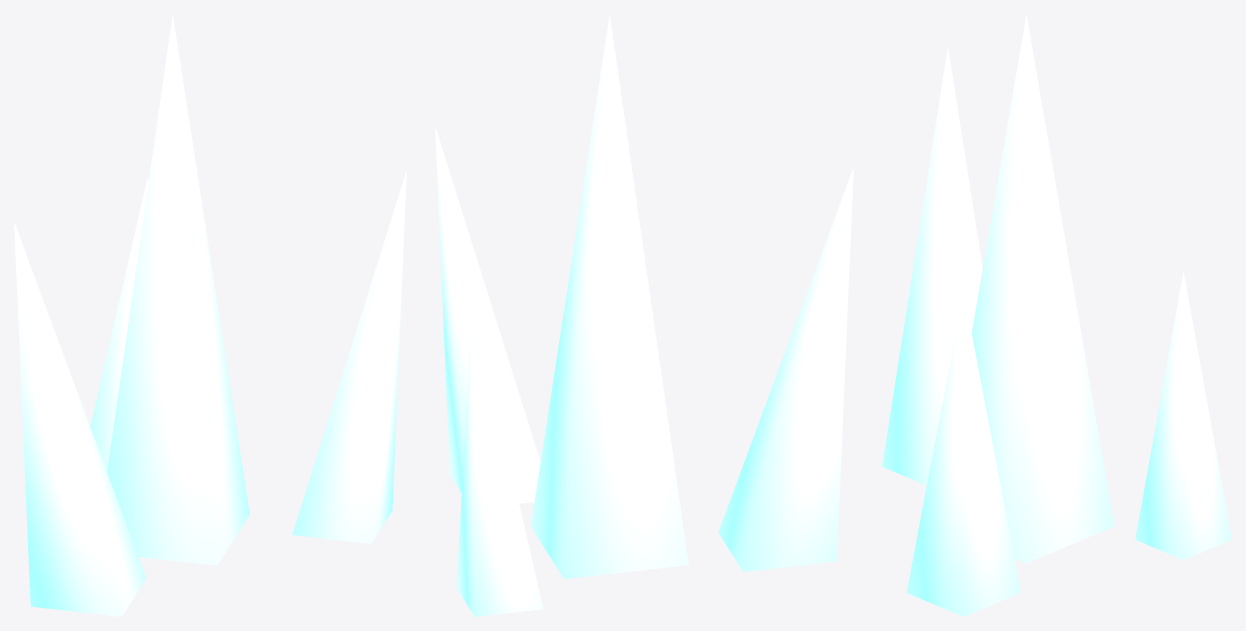
File: SM_dg_crystal.glb
3 views of the same model, side by side, from view 1: azimuth 30°, elevation 25°; view 2: azimuth 150°, elevation 25°; view 3: azimuth 270°, elevation 25° (orthographic). The views are drawn at different scales.
Visible parts, largest first — view 1: SM_dg_crystal; view 2: SM_dg_crystal; view 3: SM_dg_crystal.
Part boxes in pixels (x1,y1,x2,y2): SM_dg_crystal: [14, 14, 406, 616]; SM_dg_crystal: [435, 14, 853, 616]; SM_dg_crystal: [882, 14, 1231, 616].
Size of the model in its own units: 1.45 by 1.8 by 1.11.
